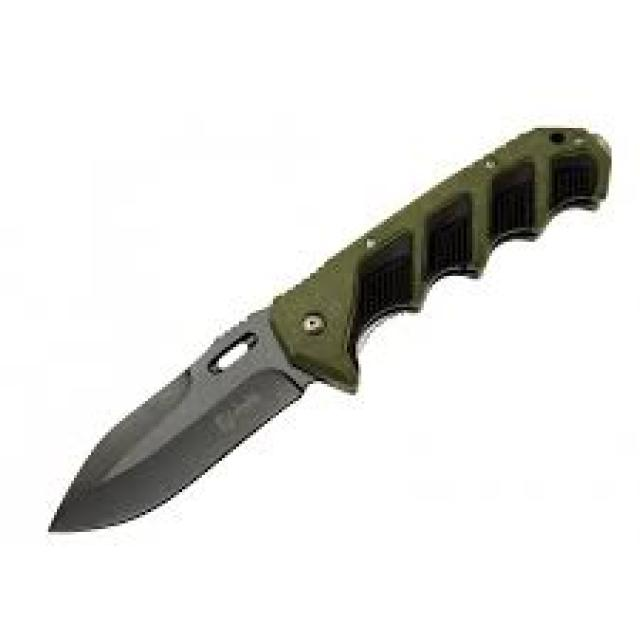knife: (40, 110, 622, 554)
